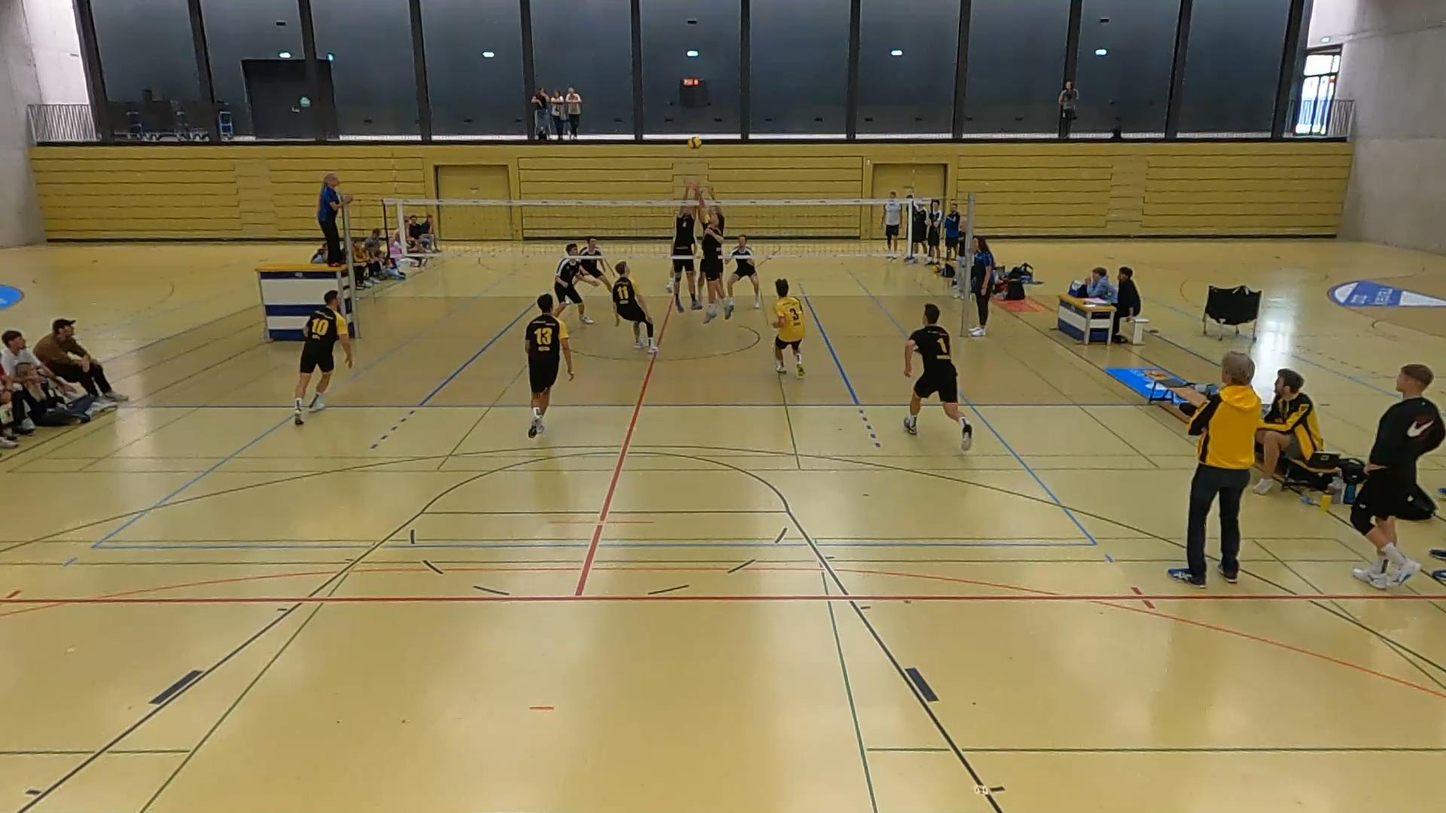Block: (660, 179, 701, 316), (695, 182, 743, 230)
Player: (904, 303, 972, 449), (294, 290, 352, 425), (524, 294, 573, 437), (612, 262, 657, 352), (552, 244, 599, 323), (772, 278, 804, 377), (725, 235, 760, 318), (579, 238, 612, 288)
Set: (668, 184, 736, 330)
ball: (687, 133, 702, 151)
